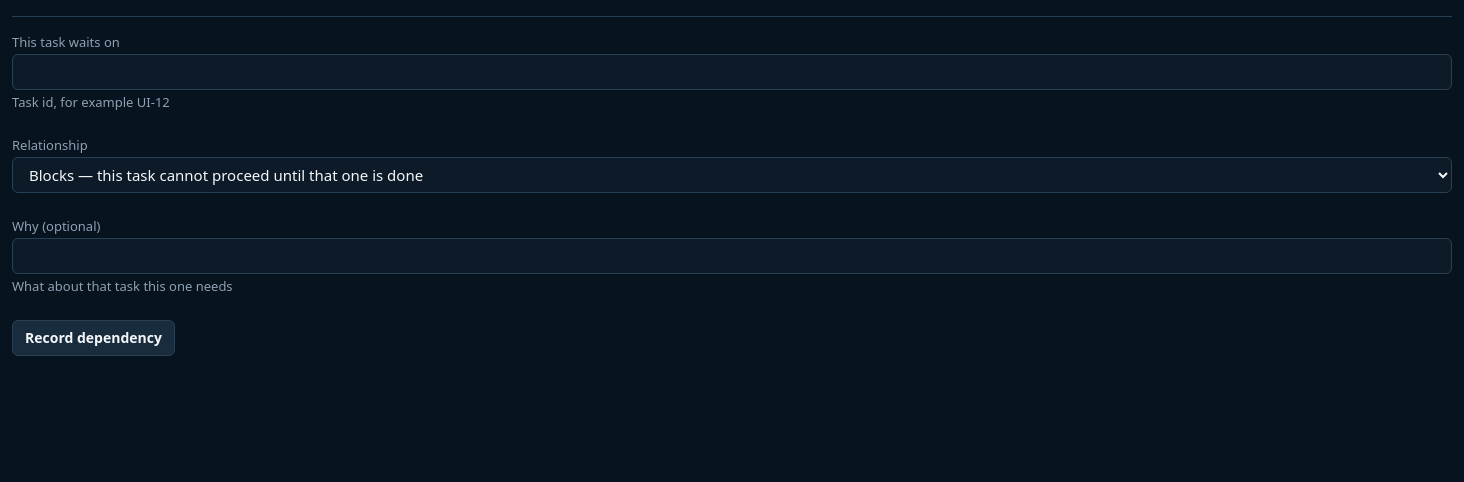
it: DependencyForm › surfaces a CLI refusal instead of silently failing
Type "UI-999" into the field labelled "This task waits on" at [732, 72], box [12, 54, 1452, 90]
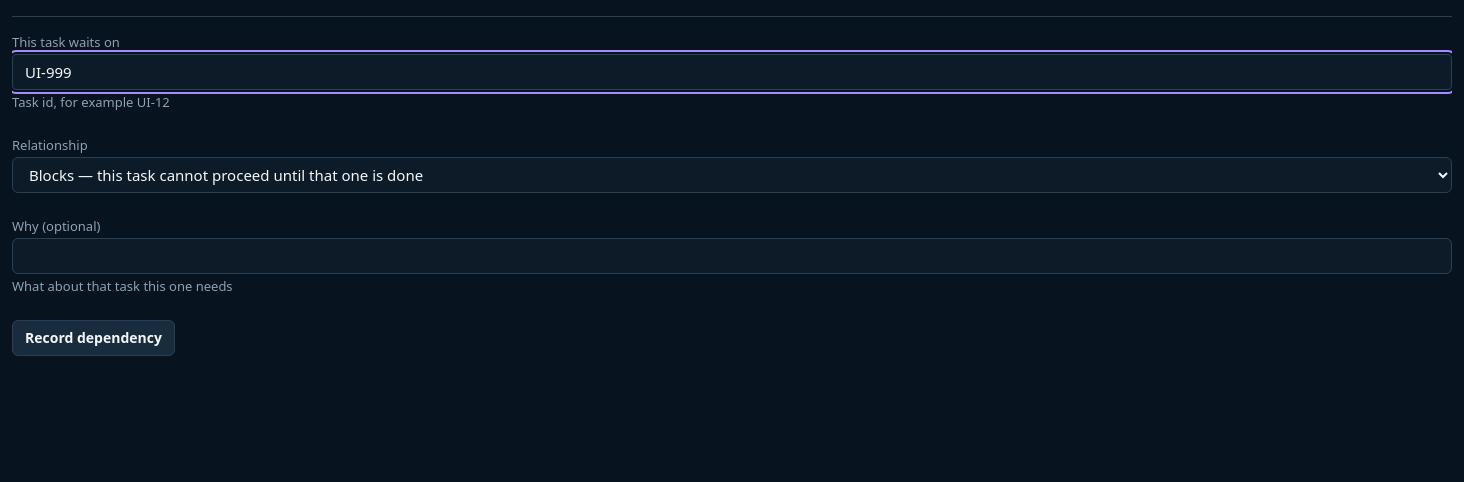
Click the button "Record dependency" at [93, 338], box [12, 320, 175, 356]
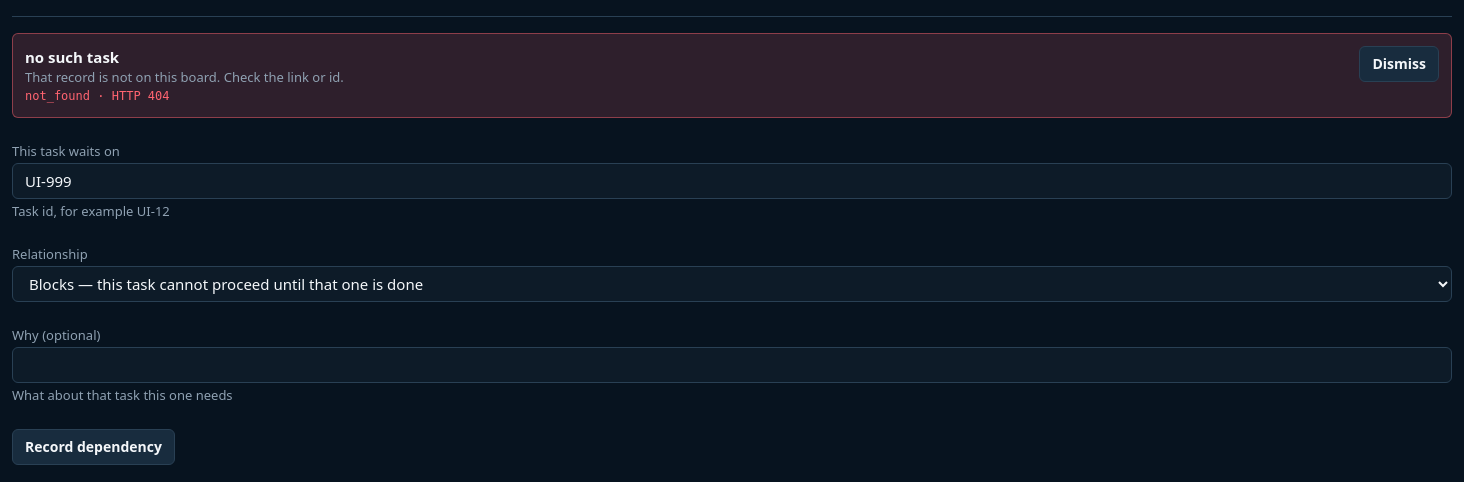
Expected: the message is shown, [12, 33, 1452, 118]
